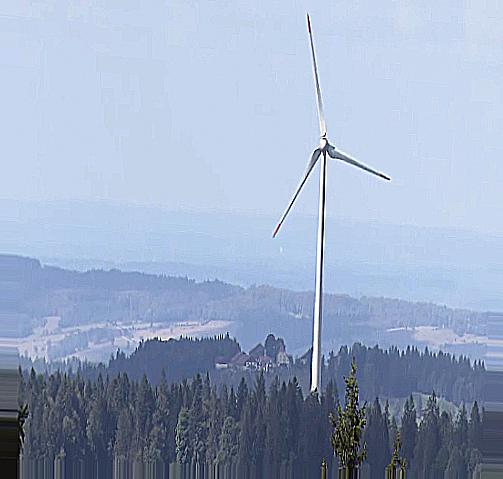wind turbine: (268, 8, 395, 392)
